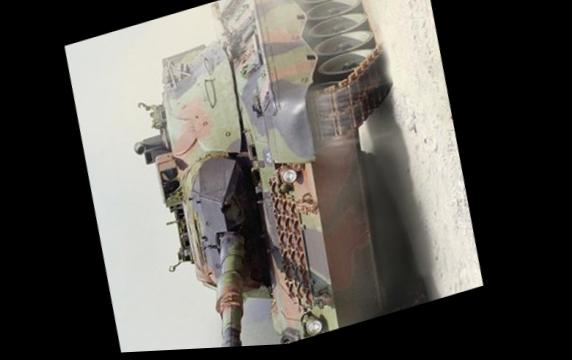tank: (89, 0, 455, 354)
